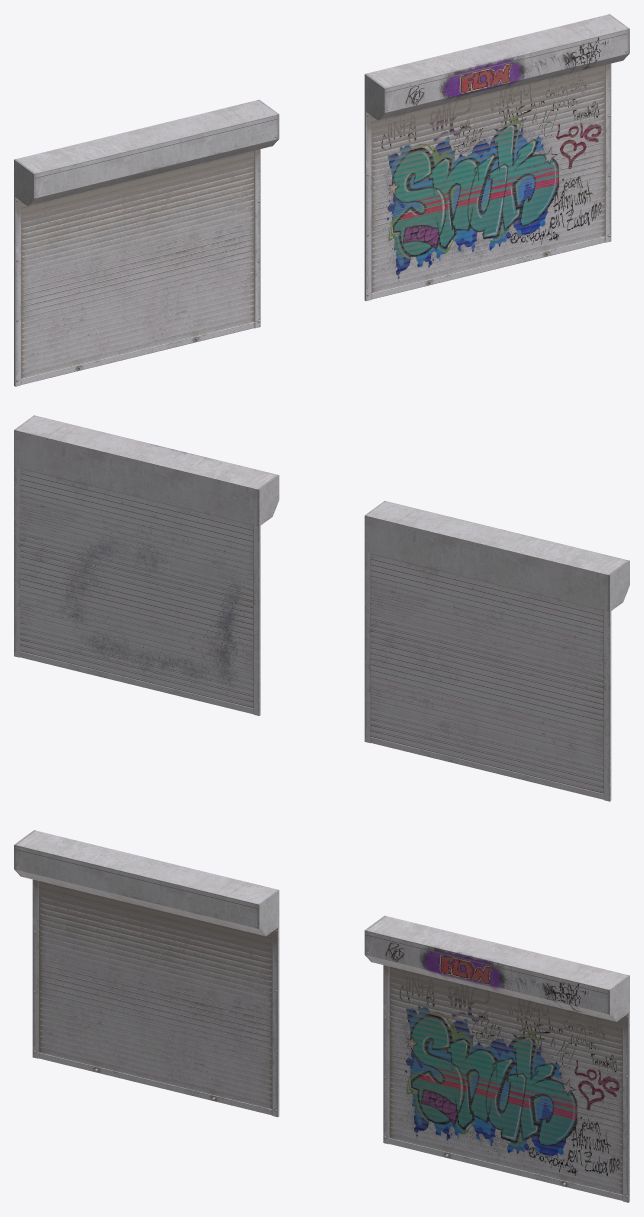
File: rollershutter_window_01_2k.fbx
3 views of the same model, one above another, from view 1: azimuth 30°, elevation 25°; view 2: azimuth 150°, elevation 25°; view 3: azimuth 330°, elevation 25° (orthographic).
Parts seen in each view (by area): view 1: rollershutter_window_01_graffiti, rollershutter_window_01; view 2: rollershutter_window_01, rollershutter_window_01_graffiti; view 3: rollershutter_window_01, rollershutter_window_01_graffiti.
Part boxes in pixels (x1=…): rollershutter_window_01_graffiti: x1=364, y1=14, x2=629, y2=301; rollershutter_window_01: x1=14, y1=99, x2=279, y2=386; rollershutter_window_01: x1=364, y1=501, x2=629, y2=801; rollershutter_window_01_graffiti: x1=14, y1=415, x2=279, y2=715; rollershutter_window_01: x1=14, y1=830, x2=279, y2=1117; rollershutter_window_01_graffiti: x1=364, y1=915, x2=629, y2=1202.
Bounding box in the file's own units: 510 × 185 × 30.01.
Materials: 2 (2 with a texture image).
